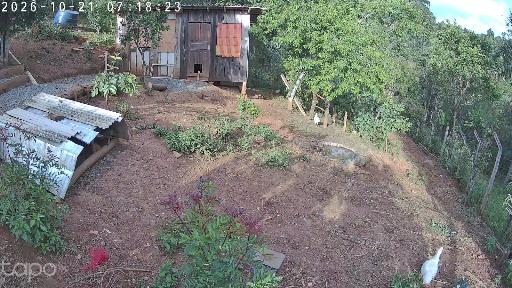galinha: (71, 33, 77, 43)
galo: (78, 34, 89, 45), (313, 112, 320, 126)
pato: (422, 245, 443, 284)
